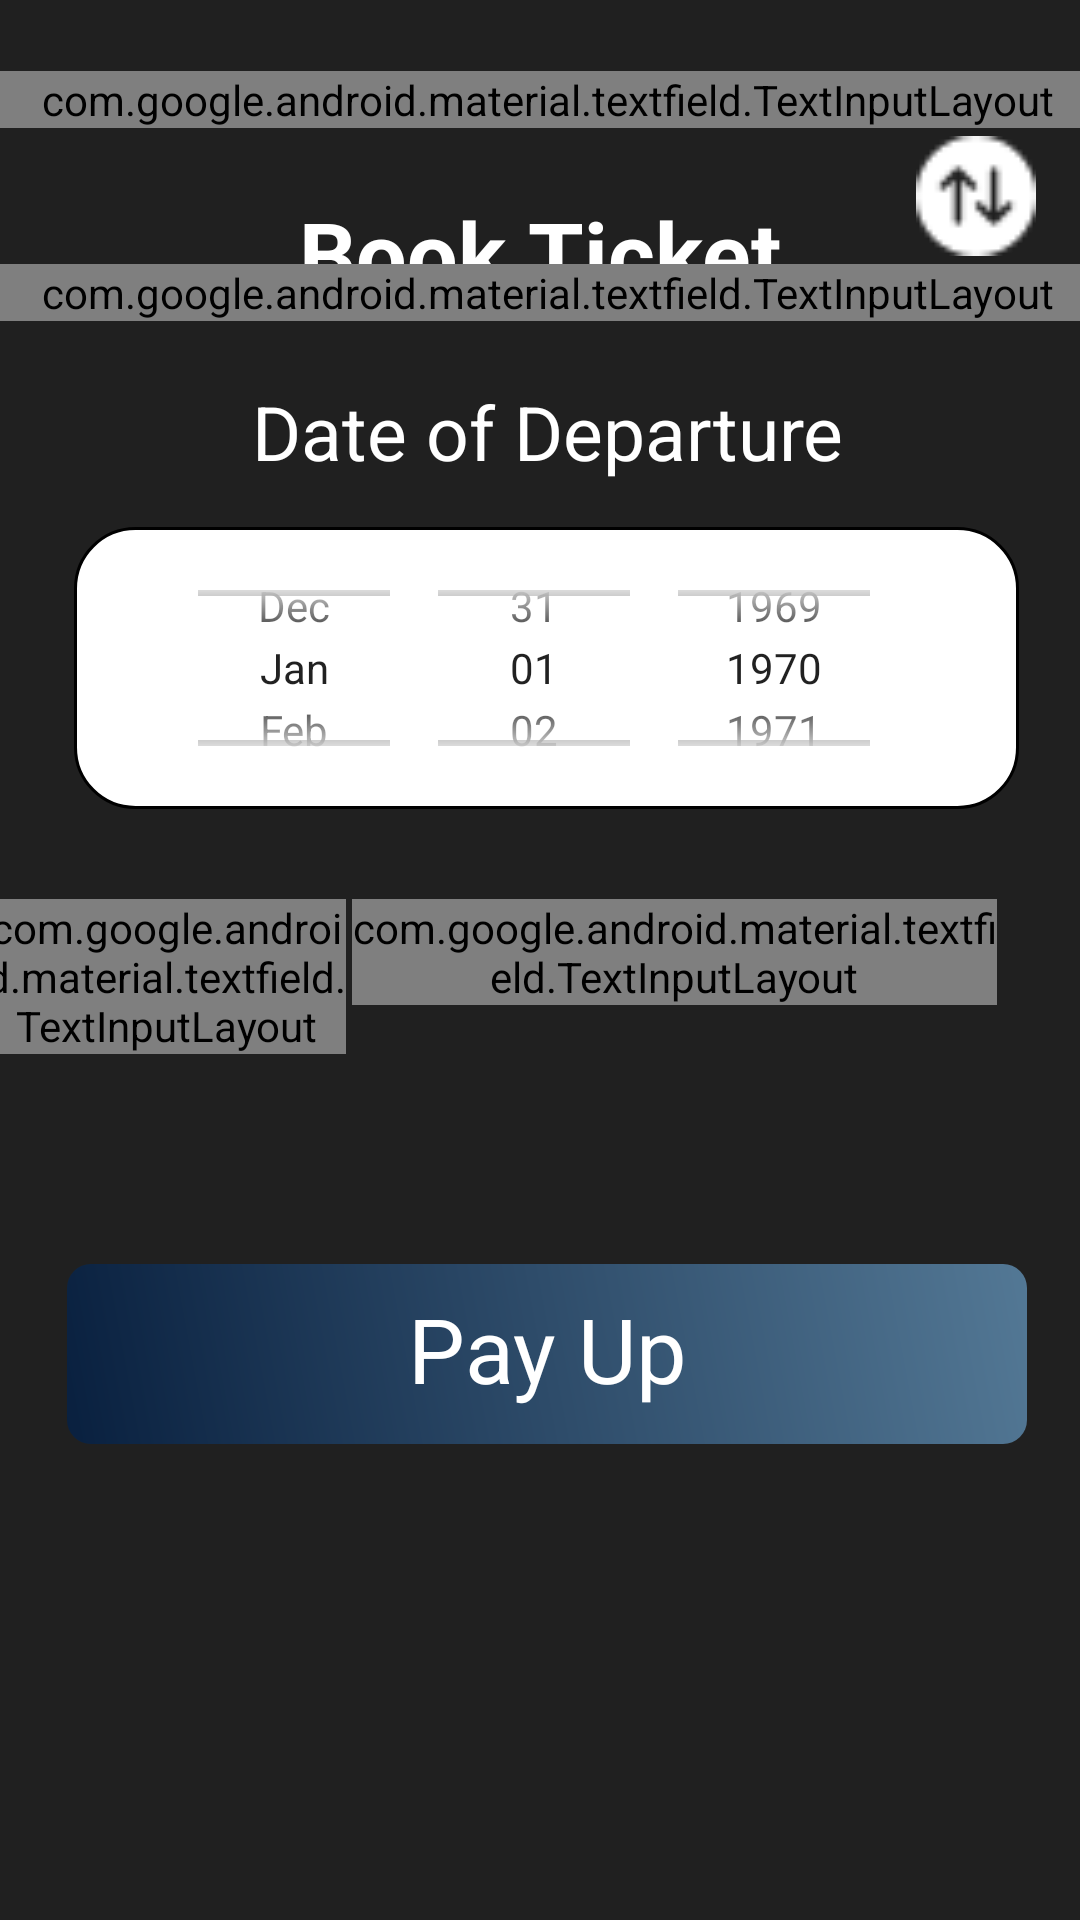

Locate icon controls on the screen. Image size 1080 × 1920, boxes as (x1, y1, x2, y2).
movement: (916, 136, 1036, 256)
